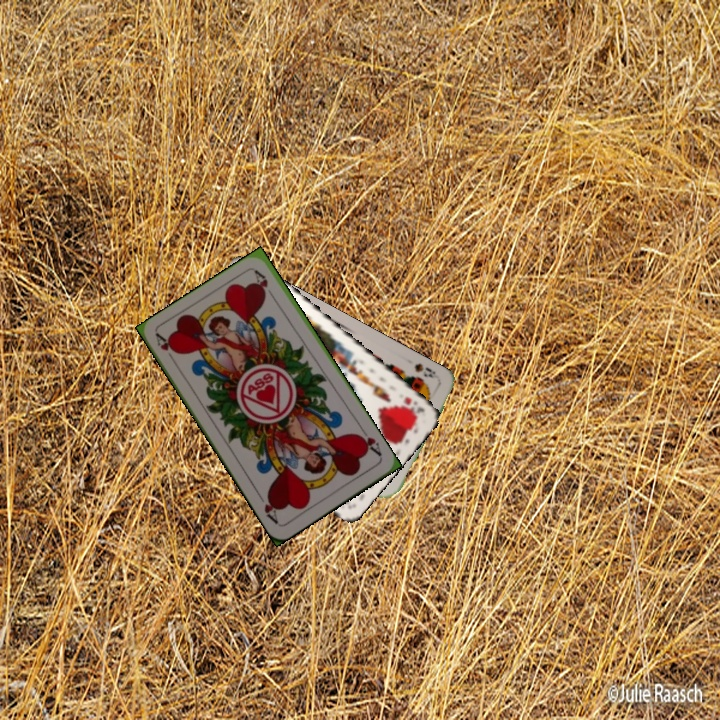HA: (352, 424, 385, 460), (152, 330, 179, 368)
HK: (398, 392, 427, 420)
S8: (410, 359, 440, 382)
